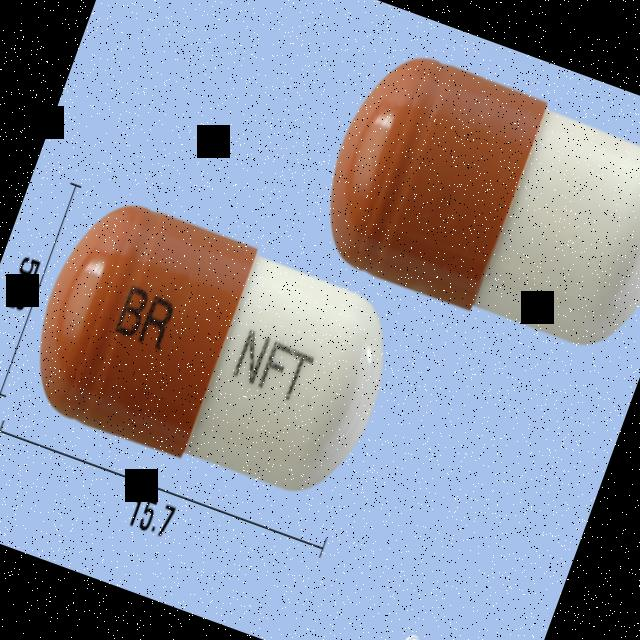Boryung Nitrofurantoin: (9, 183, 416, 522)
